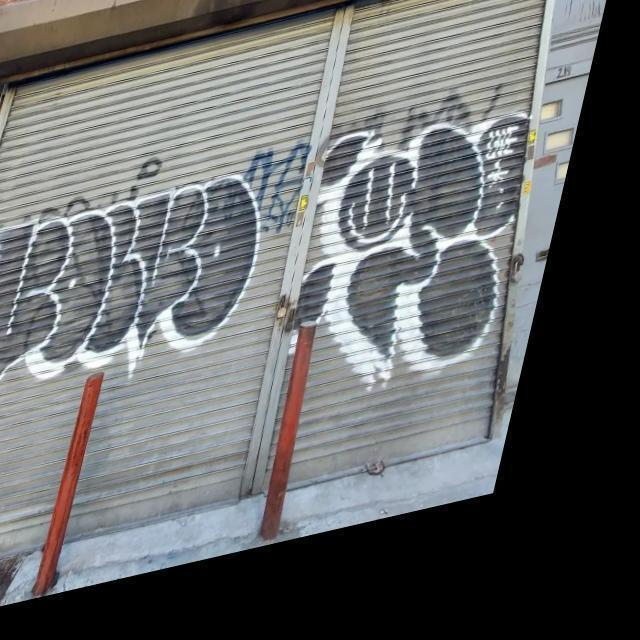nonspitting: (292, 115, 534, 382), (0, 177, 258, 378), (231, 140, 309, 227)
